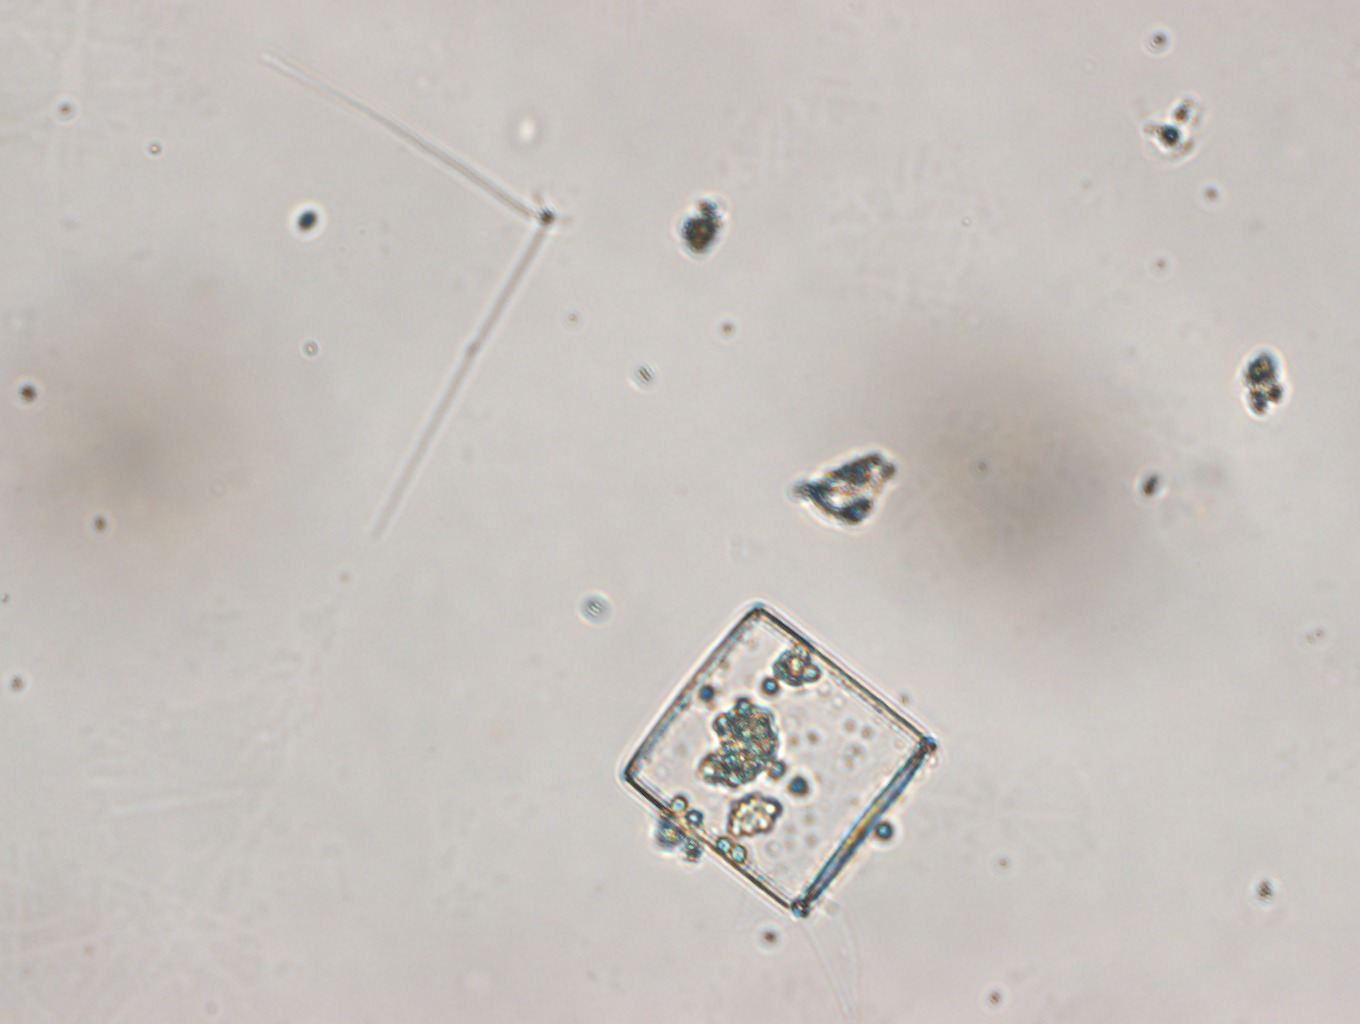guinardia flaccida: (616, 592, 936, 920)
